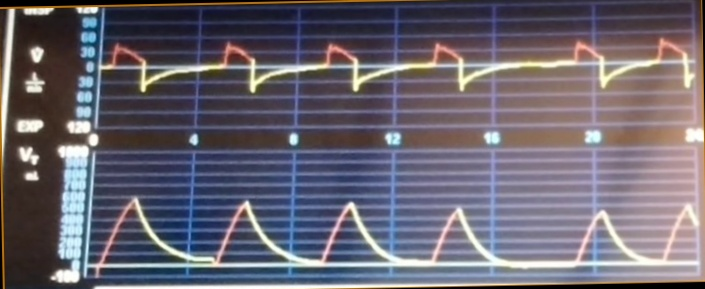Normal Flow: (104, 19, 694, 112)
Normal Volume: (94, 181, 699, 277)
